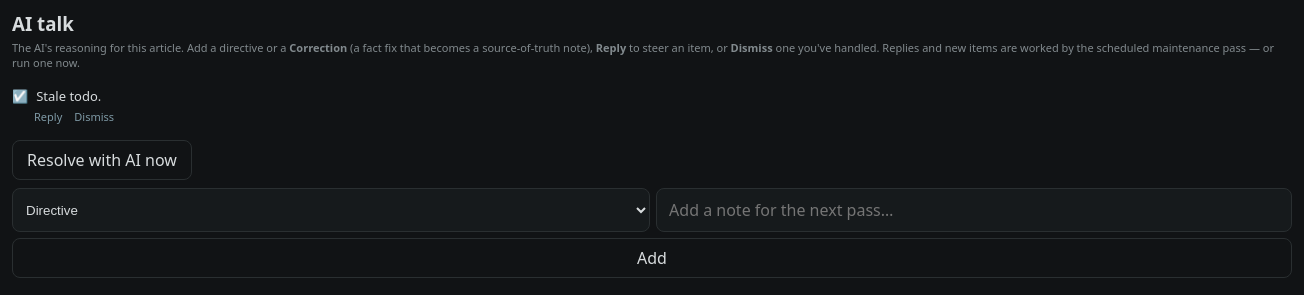
Test case: TalkPanel — dismiss › confirms, posts the dismiss, and reloads without the item
Expected: the text "Stale todo." is shown, x1=36 y1=87 x2=101 y2=105
Click the button "Dismiss".
click(94, 116)  # box x1=74 y1=109 x2=114 y2=124
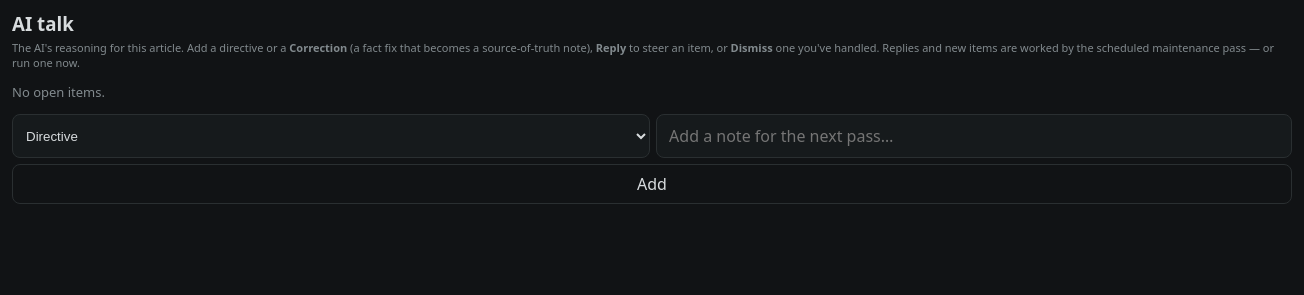
Result: the text "No open items." is shown at x1=12 y1=83 x2=105 y2=101
